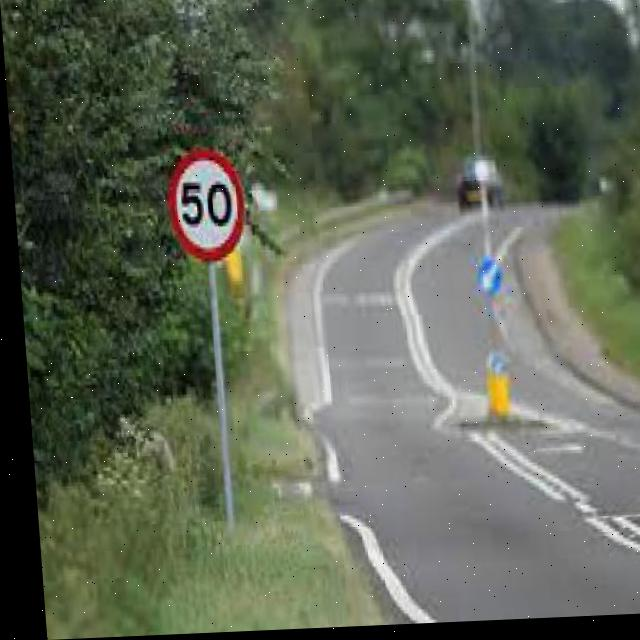Speed limit 50: (159, 145, 248, 268)
